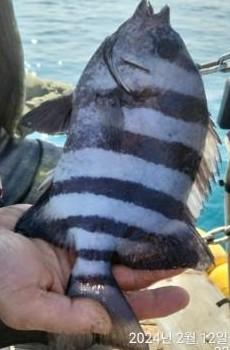fish: (13, 0, 221, 349)
